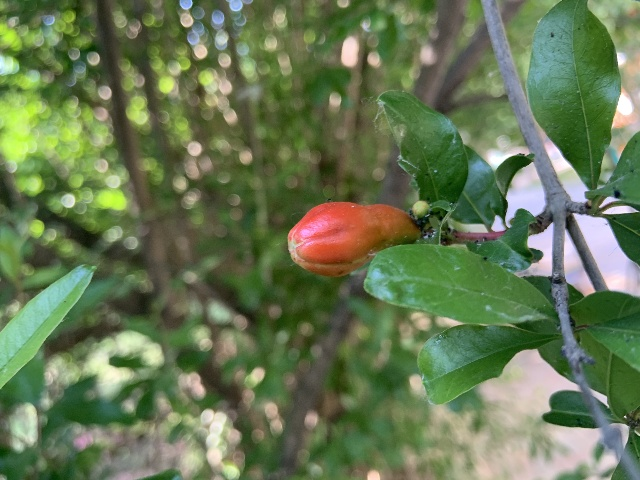bud: (287, 200, 418, 274)
